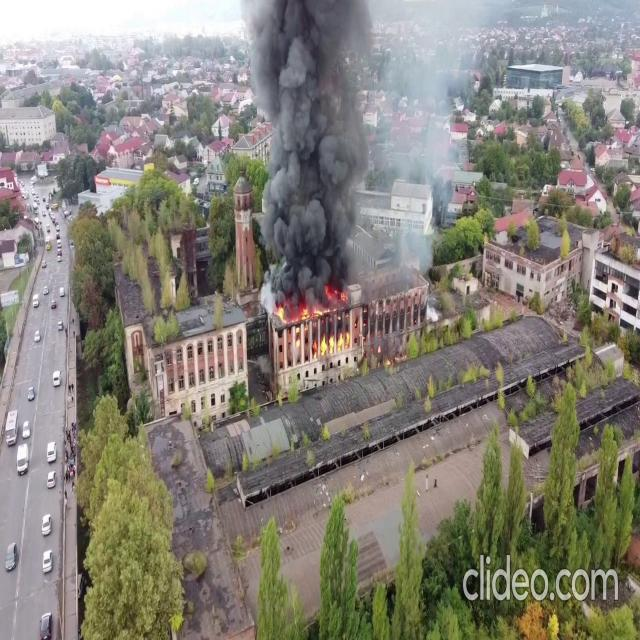Smoke: (245, 0, 423, 308)
